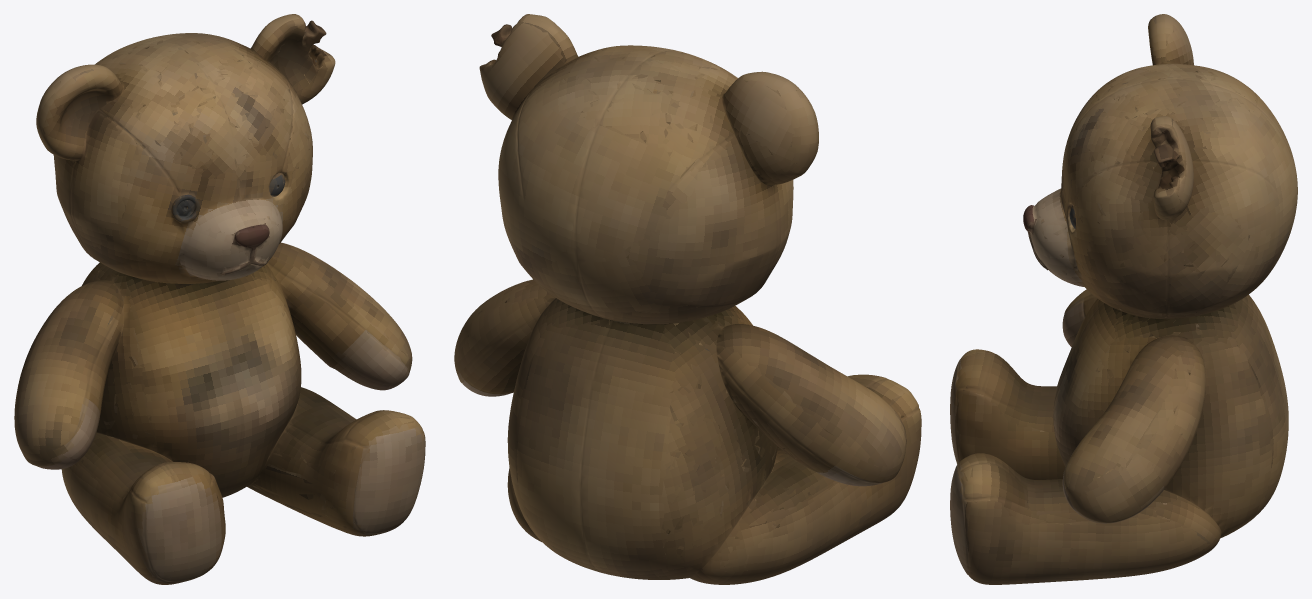
File: ToyTeddy.glb
3 renders of one model, left to right at view 1: azimuth 30°, elevation 25°; view 2: azimuth 150°, elevation 25°; view 3: azimuth 270°, elevation 25°, orthographic. The views are drawn at different scales.
Visible parts, largest first — view 1: ToyTeddy; view 2: ToyTeddy; view 3: ToyTeddy.
Boxes of the visible parts, x1,y1,x2,y2 form: ToyTeddy: (14,14,425,584); ToyTeddy: (454,14,921,584); ToyTeddy: (950,14,1297,584).
Size of the model in its own units: 0.2192 by 0.25 by 0.1708.
Materials: 1 (1 with a texture image).
